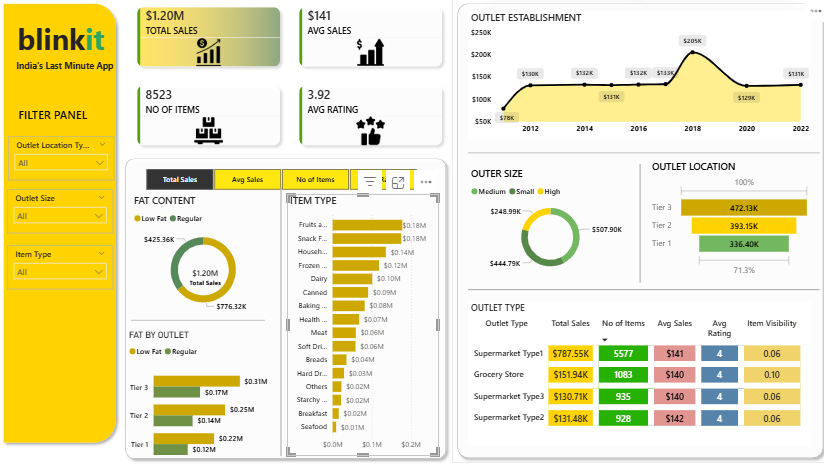

This screenshot's page, from the dashboard's own definition file:
{"tool":"powerbi","page":{"name":"Page 1","canvas":[1400,800],"ordinal":0},"visuals":[{"type":"shape","box":[0,11.2,205.6,750.2],"z":0},{"type":"textbox","box":[16.1,41.8,176.7,81.9],"z":1000},{"type":"textbox","box":[16.1,107.6,189.6,40.2],"z":2000},{"type":"cardVisual","fields":{"Data":["BlinkIT Grocery Data.Total Sales","BlinkIT Grocery Data.Avg Sales","BlinkIT Grocery Data.No of Items","BlinkIT Grocery Data.Avg Rating"]},"box":[205.6,0,563.9,285.9],"z":3000},{"type":"shape","box":[204,269.9,552.6,518.9],"z":4000},{"type":"slicer","fields":{"Values":["Metrics.Metrics"]},"box":[221.7,290.8,499.6,48.2],"z":5000},{"type":"donutChart","title":"FAT CONTENT","fields":{"Y":["BlinkIT Grocery Data.Total Sales"],"Category":["BlinkIT Grocery Data.Item Fat Content"]},"box":[221.7,339,241,204],"z":6000},{"type":"cardVisual","fields":{"Data":["BlinkIT Grocery Data.Total Sales"]},"box":[289.2,436.9,114.1,81.9],"z":7000},{"type":"clusteredBarChart","title":"FAT BY OUTLET","fields":{"Y":["BlinkIT Grocery Data.Total Sales"],"Category":["BlinkIT Grocery Data.Outlet Location Type"],"Series":["BlinkIT Grocery Data.Item Fat Content"]},"box":[213.7,565.5,241,234.5],"z":8000},{"type":"shape","box":[221.7,543,223.3,11.2],"z":9000},{"type":"shape","box":[427.3,326.1,90,448.2],"z":10000},{"type":"barChart","title":"ITEM TYPE","fields":{"Y":["BlinkIT Grocery Data.Total Sales"],"Category":["BlinkIT Grocery Data.Item Type"]},"box":[481.9,339,253.8,435.3],"z":11000},{"type":"shape","box":[756.6,11.2,628.1,775.9],"z":12000},{"type":"lineChart","title":"OUTLET ESTABLISHMENT","fields":{"Y":["BlinkIT Grocery Data.Total Sales"],"Category":["BlinkIT Grocery Data.Outlet Establishment Year"]},"box":[783.9,33.7,573.5,213.7],"z":13000},{"type":"shape","box":[783.9,261.8,586.3,16.1],"z":14000},{"type":"donutChart","title":"OUTER SIZE","fields":{"Y":["BlinkIT Grocery Data.Total Sales"],"Category":["BlinkIT Grocery Data.Outlet Size"]},"box":[783.9,294,274.7,184.7],"z":15000},{"type":"shape","box":[1053.8,287.6,33.7,197.6],"z":16000},{"type":"funnel","title":"OUTLET LOCATION","fields":{"Y":["Sum(BlinkIT Grocery Data.Sales)"],"Category":["BlinkIT Grocery Data.Outlet Location Type"]},"box":[1084.3,281.1,273.1,197.6],"z":17000},{"type":"shape","box":[783.9,478.7,586.3,38.6],"z":18000},{"type":"pivotTable","title":"OUTLET TYPE","fields":{"Rows":["BlinkIT Grocery Data.Outlet Type"],"Values":["BlinkIT Grocery Data.Total Sales","BlinkIT Grocery Data.No of Items","BlinkIT Grocery Data.Avg Sales","BlinkIT Grocery Data.Avg Rating","Avg(BlinkIT Grocery Data.Item Visibility)"]},"box":[783.9,517.3,573.5,242.6],"z":19000},{"type":"slicer","fields":{"Values":["BlinkIT Grocery Data.Outlet Location Type"]},"box":[16.1,241,176.7,73.9],"z":20000},{"type":"slicer","fields":{"Values":["BlinkIT Grocery Data.Outlet Size"]},"box":[14.5,329.3,176.7,73.9],"z":21000},{"type":"slicer","fields":{"Values":["BlinkIT Grocery Data.Item Type"]},"box":[14.5,424.1,176.7,73.9],"z":22000},{"type":"textbox","box":[16.1,188,149.4,41.8],"z":23000}]}

Visuals, with their boxes in screenshot pixels (x1, y1, x2, y2), scaled from the page's 1400x800 canvas onto the 824x464 screenshot:
shape: Rect(0, 6, 121, 442)
textbox: Rect(9, 24, 113, 72)
textbox: Rect(9, 62, 121, 86)
cardVisual - BlinkIT Grocery Data.Total Sales x BlinkIT Grocery Data.Avg Sales: Rect(121, 0, 453, 166)
shape: Rect(120, 157, 445, 458)
slicer - Metrics.Metrics: Rect(130, 169, 425, 197)
"FAT CONTENT" donutChart: Rect(130, 197, 272, 315)
cardVisual - BlinkIT Grocery Data.Total Sales: Rect(170, 253, 237, 301)
"FAT BY OUTLET" clusteredBarChart: Rect(126, 328, 268, 463)
shape: Rect(130, 315, 262, 321)
shape: Rect(251, 189, 304, 449)
"ITEM TYPE" barChart: Rect(284, 197, 433, 449)
shape: Rect(445, 6, 815, 457)
"OUTLET ESTABLISHMENT" lineChart: Rect(461, 20, 799, 143)
shape: Rect(461, 152, 806, 161)
"OUTER SIZE" donutChart: Rect(461, 171, 623, 278)
shape: Rect(620, 167, 640, 281)
"OUTLET LOCATION" funnel: Rect(638, 163, 799, 278)
shape: Rect(461, 278, 806, 300)
"OUTLET TYPE" pivotTable: Rect(461, 300, 799, 441)
slicer - BlinkIT Grocery Data.Outlet Location Type: Rect(9, 140, 113, 183)
slicer - BlinkIT Grocery Data.Outlet Size: Rect(9, 191, 113, 234)
slicer - BlinkIT Grocery Data.Item Type: Rect(9, 246, 113, 289)
textbox: Rect(9, 109, 97, 133)
